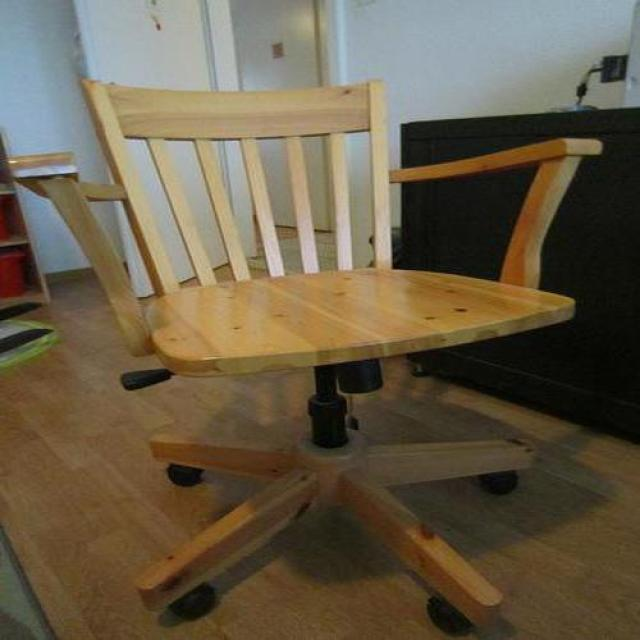swivelchair: (40, 79, 602, 630)
